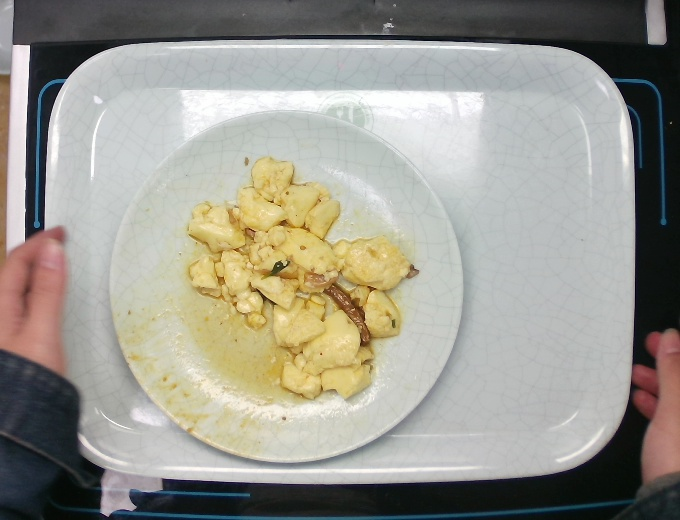JYsf-Da_Yuan_Pan: (105, 105, 470, 468)
